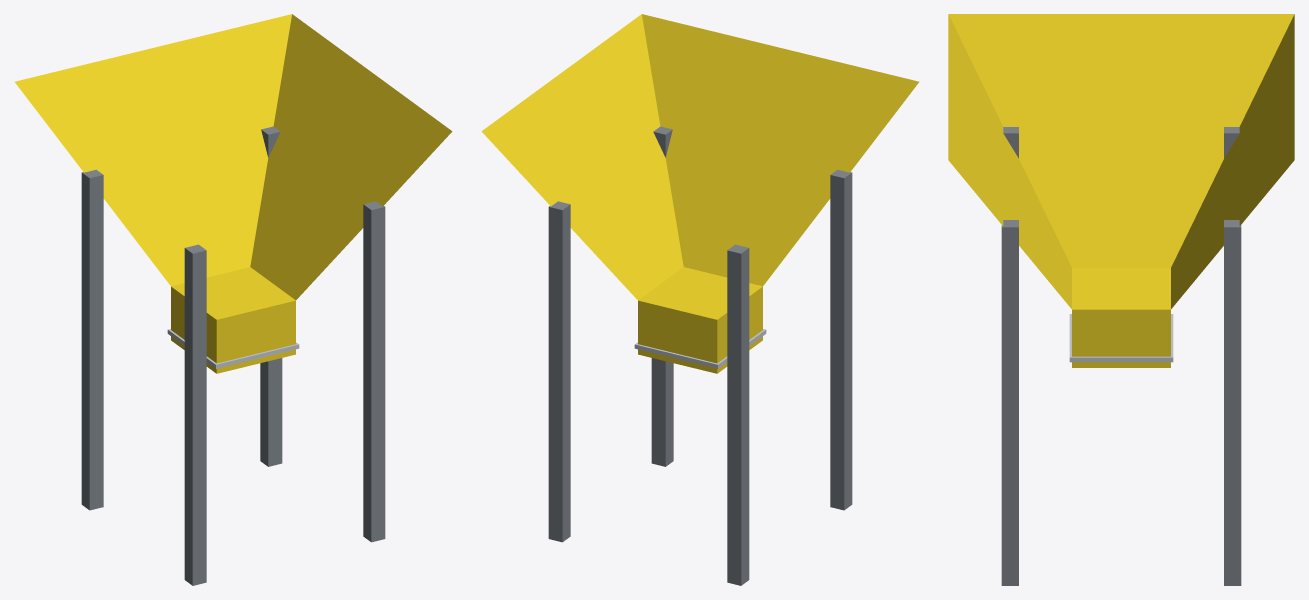
The model's file is tolva_alimentacion.glb.
3 views of the same model, side by side, from view 1: azimuth 30°, elevation 25°; view 2: azimuth 150°, elevation 25°; view 3: azimuth 270°, elevation 25° (orthographic). The views are drawn at different scales.
Parts seen in each view (by area): view 1: tolva_cuerpo, tolva_boca, pata_2, pata_4, pata_1, pata_3, compuerta_salida; view 2: tolva_cuerpo, tolva_boca, pata_1, pata_3, pata_2, pata_4, compuerta_salida; view 3: tolva_cuerpo, tolva_boca, pata_3, pata_4, compuerta_salida.
Boxes of the visible parts, box(x1,y1,x2,y2) form: tolva_cuerpo: box(14, 14, 452, 299); tolva_boca: box(171, 267, 295, 373); pata_2: box(184, 244, 206, 585); pata_4: box(363, 201, 385, 542); pata_1: box(81, 169, 103, 510); pata_3: box(260, 126, 282, 466); compuerta_salida: box(167, 329, 299, 368); tolva_cuerpo: box(481, 14, 919, 299); tolva_boca: box(638, 267, 762, 373); pata_1: box(727, 244, 749, 585); pata_3: box(548, 201, 570, 542); pata_2: box(830, 169, 852, 510); pata_4: box(651, 126, 673, 466); compuerta_salida: box(634, 329, 766, 368); tolva_cuerpo: box(948, 14, 1294, 308); tolva_boca: box(1072, 268, 1170, 367); pata_3: box(1224, 220, 1241, 585); pata_4: box(1001, 220, 1018, 585); compuerta_salida: box(1069, 314, 1173, 362).
Size of the model in its own units: 1.4 by 2 by 1.4.
